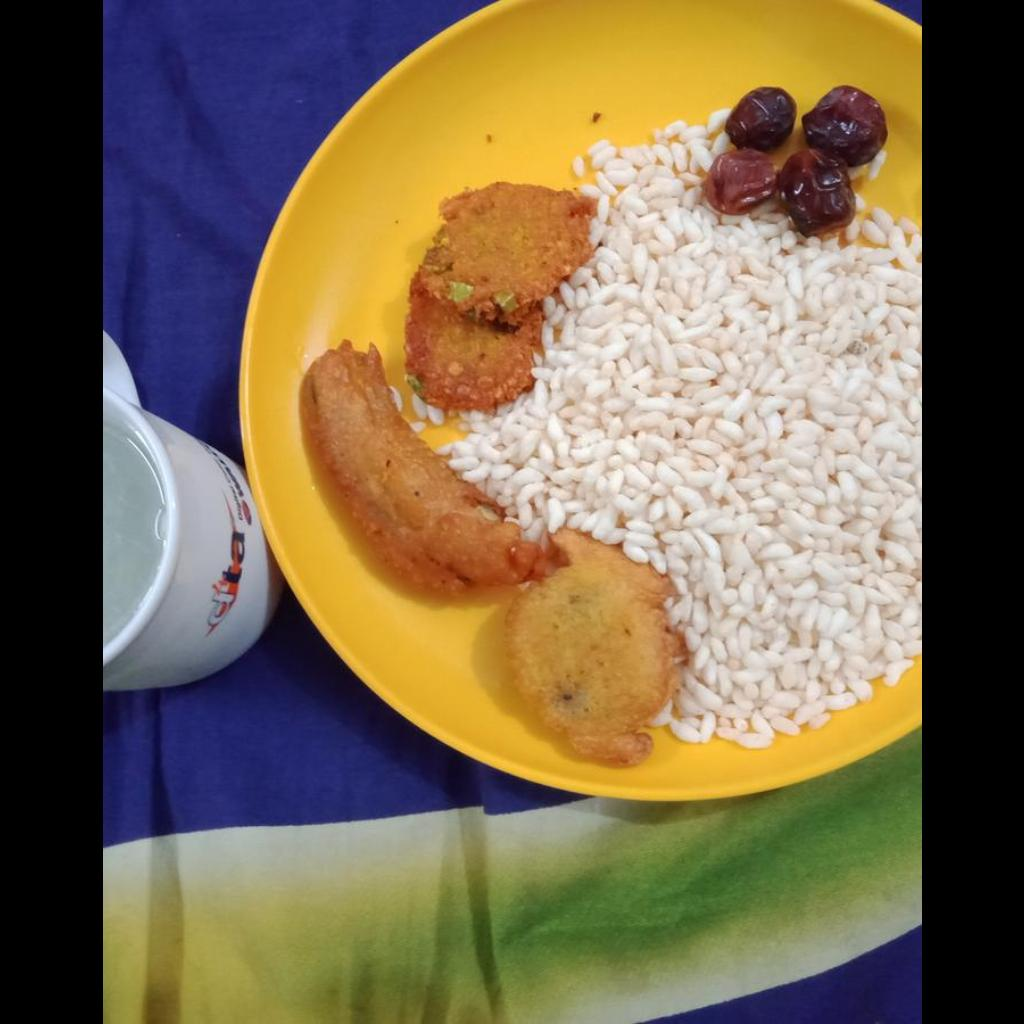beguni: (296, 341, 532, 594)
chop-alu: (504, 529, 685, 766)
dates: (704, 85, 884, 236)
piyaju: (404, 182, 592, 412)
puffed-rice: (437, 110, 920, 746)
